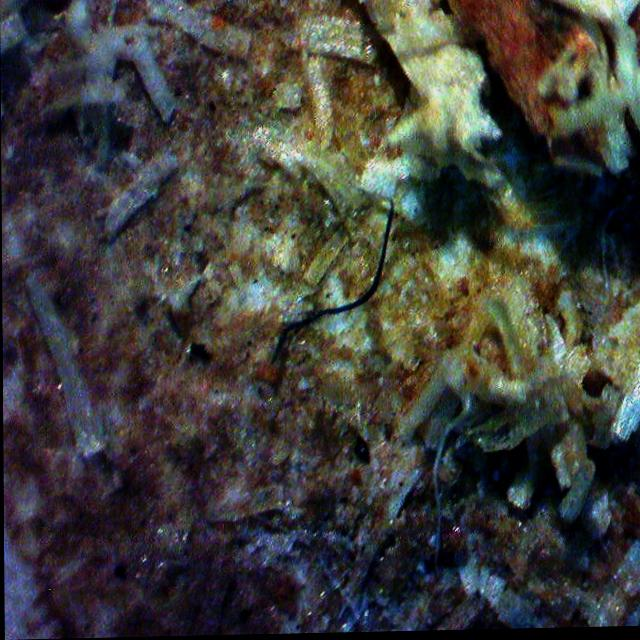microplastic: (265, 197, 422, 389)
